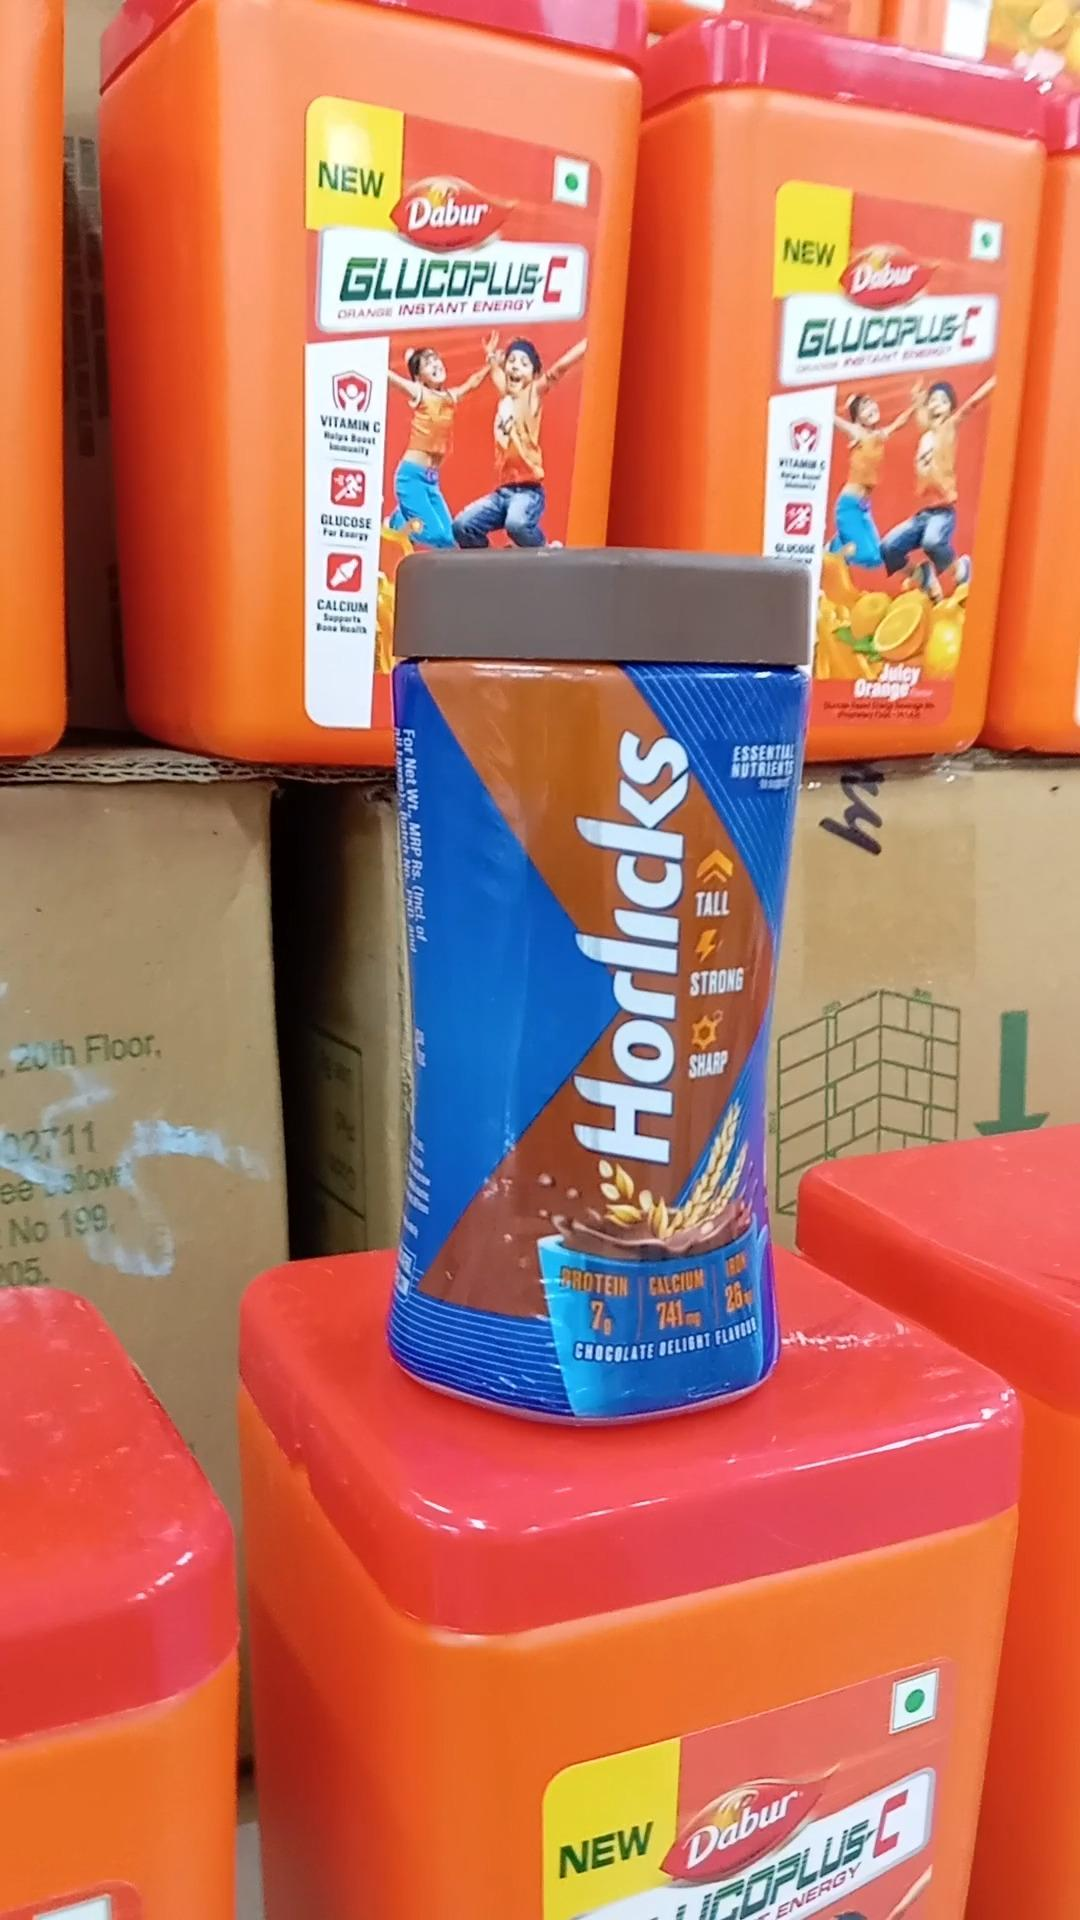HORLICK_CHOCOLATE_200_G_JAR: (389, 555, 799, 1400)
